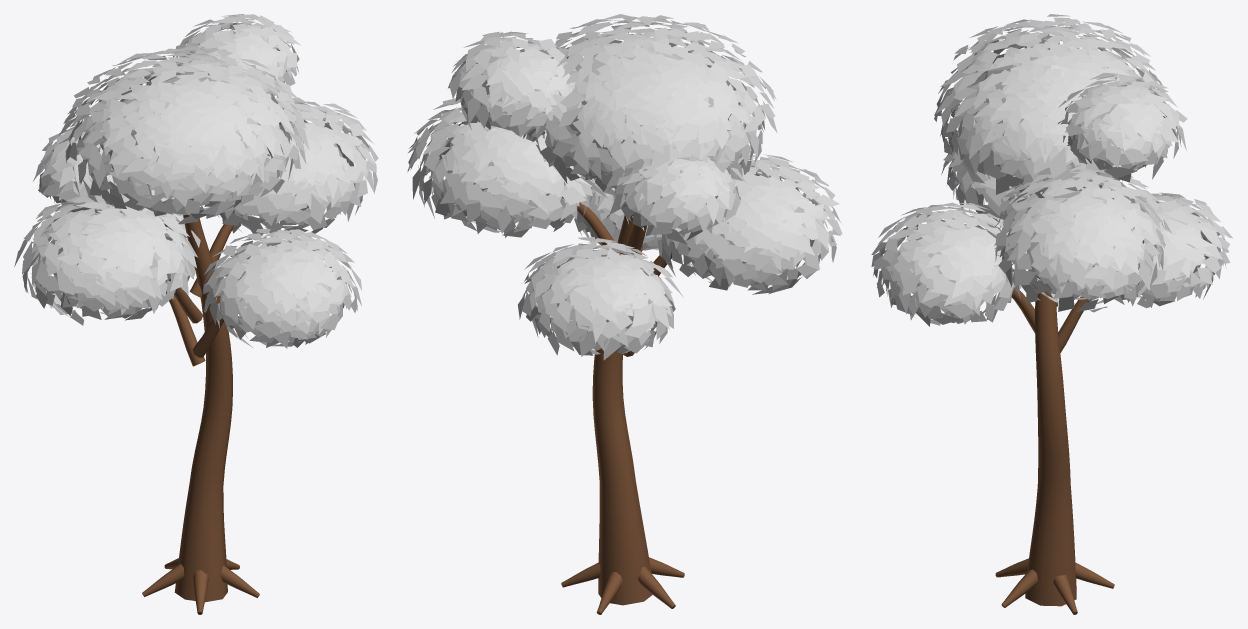
Rendered from arvore-azul.glb.
The picture shows the model from 3 angles, left to right: view 1: azimuth 30°, elevation 25°; view 2: azimuth 150°, elevation 25°; view 3: azimuth 270°, elevation 25°; orthographic projection. The views are drawn at different scales.
Parts seen in each view (by area): view 1: copa_azul, tronco, galho.004, galho.001, galho.003, raiz.002, raiz.003, galho.002; view 2: copa_azul, tronco, raiz.002; view 3: copa_azul, tronco, galho.004, raiz.004.
Boxes of the visible parts, x1,y1,x2,y2 form: copa_azul: (14,14,378,348); tronco: (174,198,232,602); galho.004: (166,291,205,366); galho.001: (190,210,234,297); galho.003: (192,308,223,357); raiz.002: (142,564,184,596); raiz.003: (193,570,208,614); galho.002: (166,274,202,323); copa_azul: (407,14,842,360); tronco: (592,214,652,605); raiz.002: (638,566,675,608); copa_azul: (871,14,1232,326); tronco: (1025,276,1076,606); galho.004: (1058,296,1089,352); raiz.004: (1001,569,1037,607).
Size of the model in its own units: 6.62 by 9.27 by 5.48.
